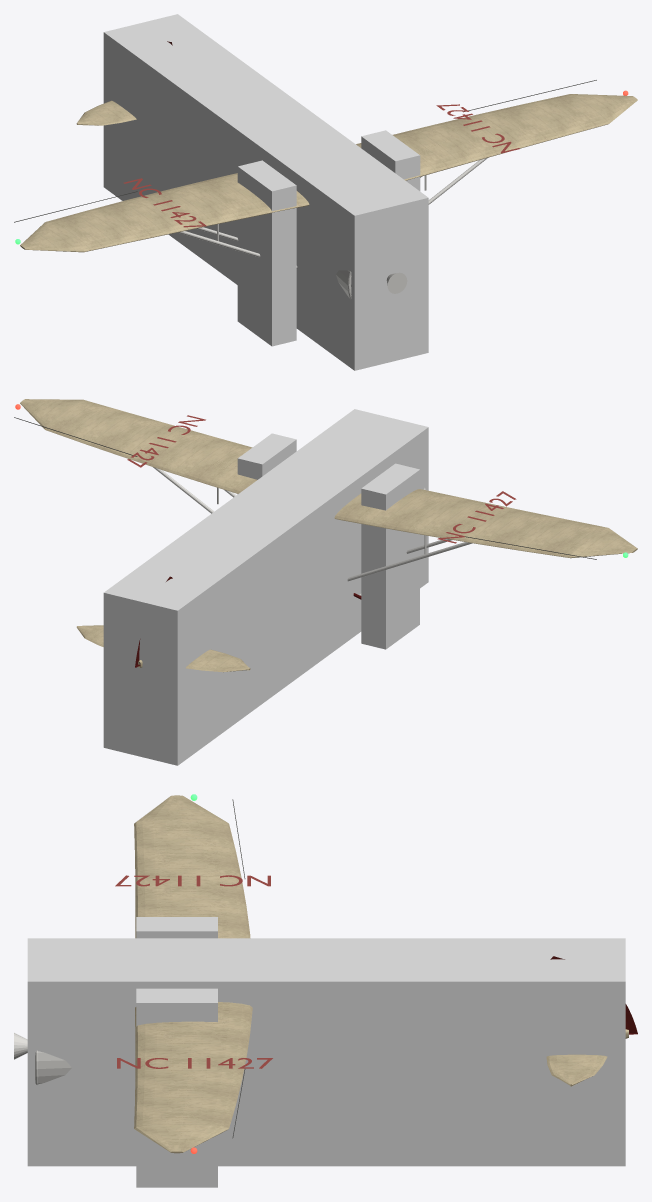
The model's file is mail_plane.glb.
3 views of the same model, one above another, from view 1: azimuth 30°, elevation 25°; view 2: azimuth 150°, elevation 25°; view 3: azimuth 270°, elevation 25° (orthographic). The views are drawn at different scales.
Visible parts, largest first — view 1: COL_Plane_Fuselage, MailPlane_Body, COL_Plane_WheelR, COL_Plane_WheelL; view 2: COL_Plane_Fuselage, MailPlane_Body, COL_Plane_WheelR, COL_Plane_WheelL; view 3: COL_Plane_Fuselage, MailPlane_Body, COL_Plane_WheelL, COL_Plane_WheelR.
Part boxes in pixels (x1,y1,x2,y2): COL_Plane_Fuselage: (103,14,428,370); MailPlane_Body: (14,41,637,299); COL_Plane_WheelR: (237,160,296,346); COL_Plane_WheelL: (361,130,420,190); COL_Plane_Fuselage: (103,409,428,765); MailPlane_Body: (14,399,637,672); COL_Plane_WheelR: (361,463,419,649); COL_Plane_WheelL: (237,433,296,494); COL_Plane_Fuselage: (27,938,625,1166); MailPlane_Body: (35,794,637,1153); COL_Plane_WheelL: (136,988,217,1187); COL_Plane_WheelR: (136,917,217,938).
Bounding box in the file's own units: 12.4 × 3.05 × 9.18.
Materials: 16 (4 with a texture image).
